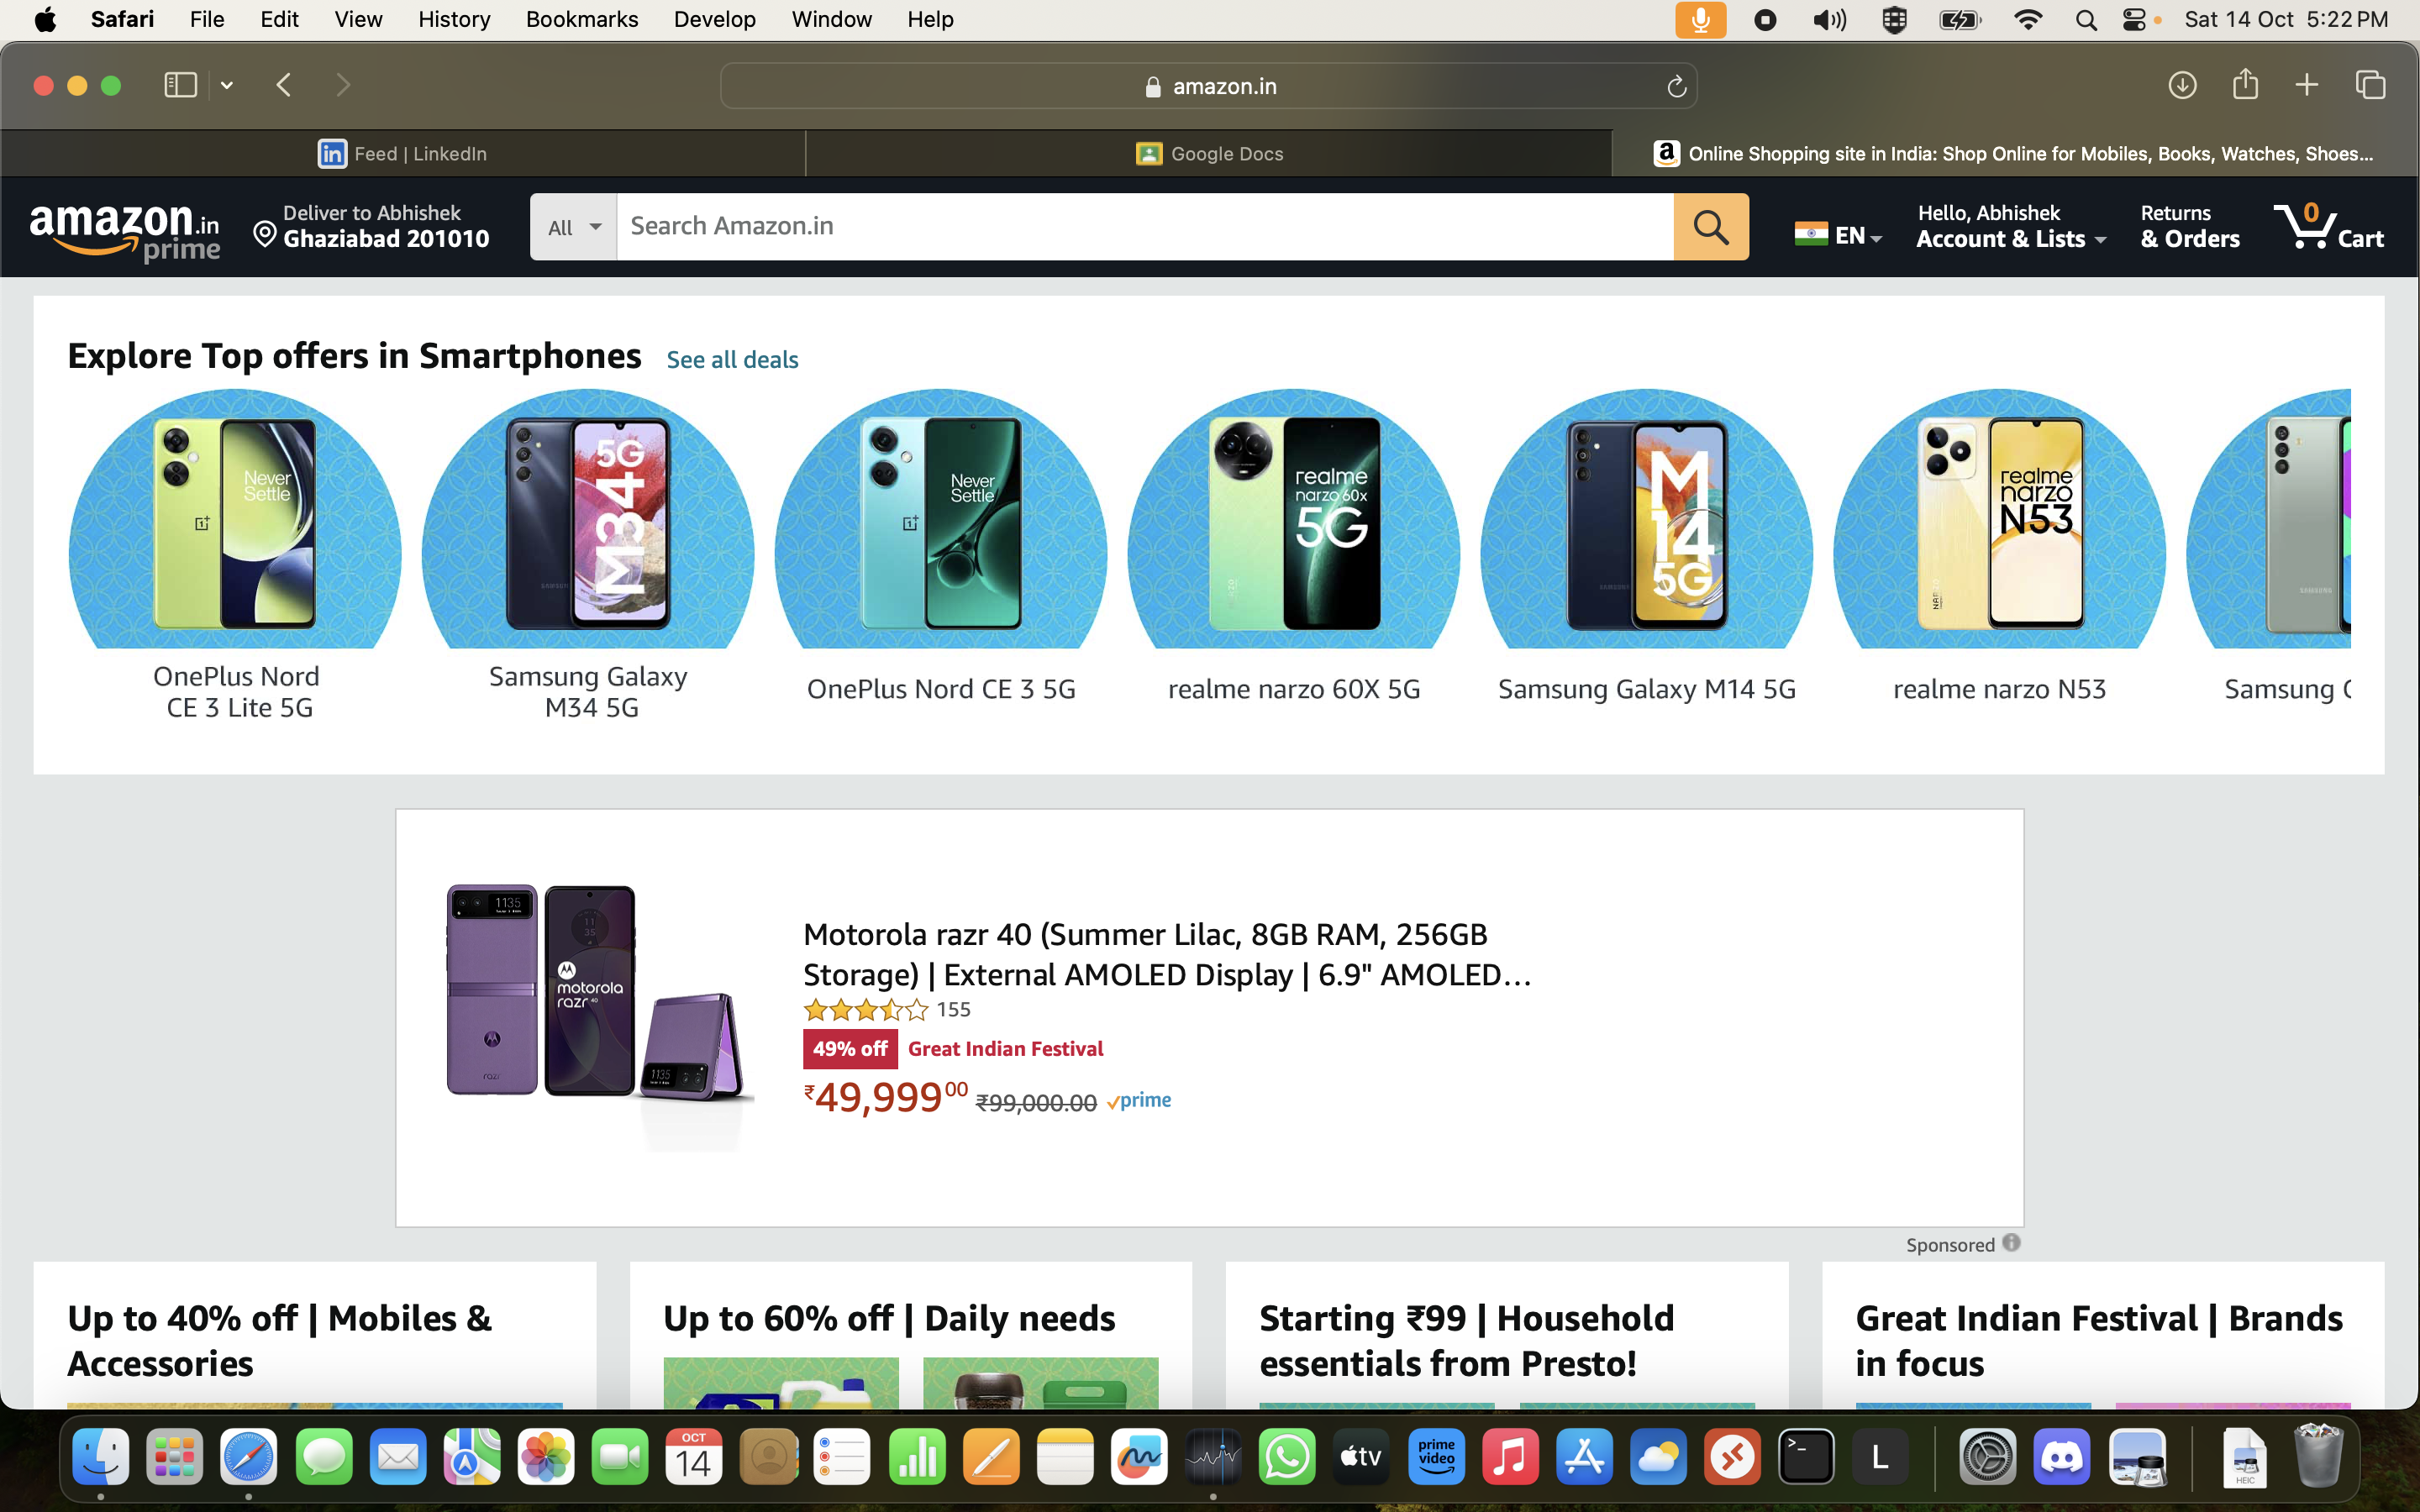Image: (432, 874, 775, 1118), (1197, 404, 1396, 648), (507, 404, 683, 624), (1908, 411, 2082, 631), (159, 415, 322, 631), (861, 404, 1016, 613), (1558, 422, 1732, 606)
Paragraph: (800, 909, 1523, 988), (1261, 1282, 1707, 1374), (1856, 1296, 2359, 1371), (61, 1299, 510, 1371), (57, 336, 652, 383), (648, 1286, 1136, 1341), (261, 192, 510, 270), (1481, 665, 1807, 719), (1897, 199, 2106, 273), (24, 195, 230, 265), (1155, 669, 1437, 719), (481, 655, 697, 719), (145, 655, 326, 730), (807, 662, 1080, 709), (631, 199, 847, 251), (2133, 178, 2242, 280), (800, 1031, 1119, 1063), (1876, 672, 2117, 712), (793, 1073, 970, 1122), (1781, 202, 1897, 273), (652, 343, 817, 390), (2216, 662, 2340, 716), (2333, 223, 2394, 258), (927, 998, 998, 1019)
